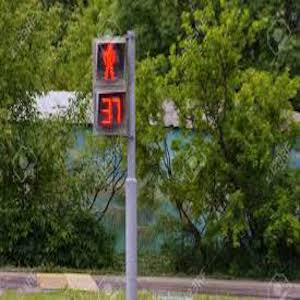red: (96, 46, 122, 83)
